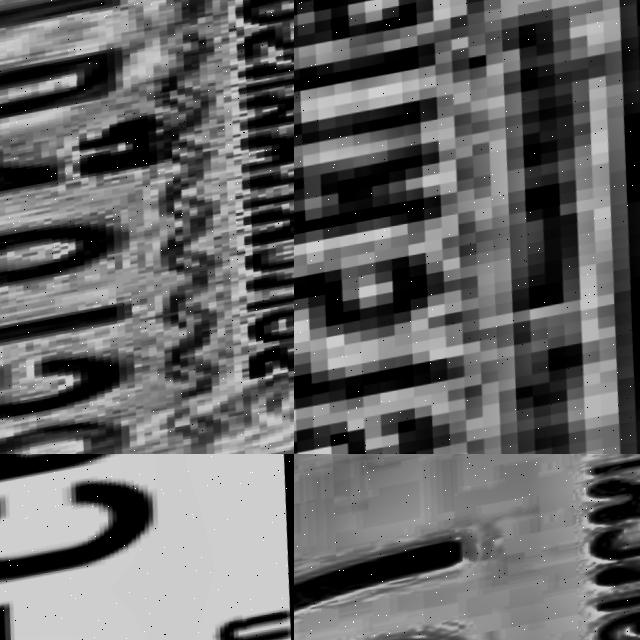license-plate: (294, 0, 640, 454), (0, 0, 294, 454), (294, 454, 640, 640), (0, 454, 294, 640)
